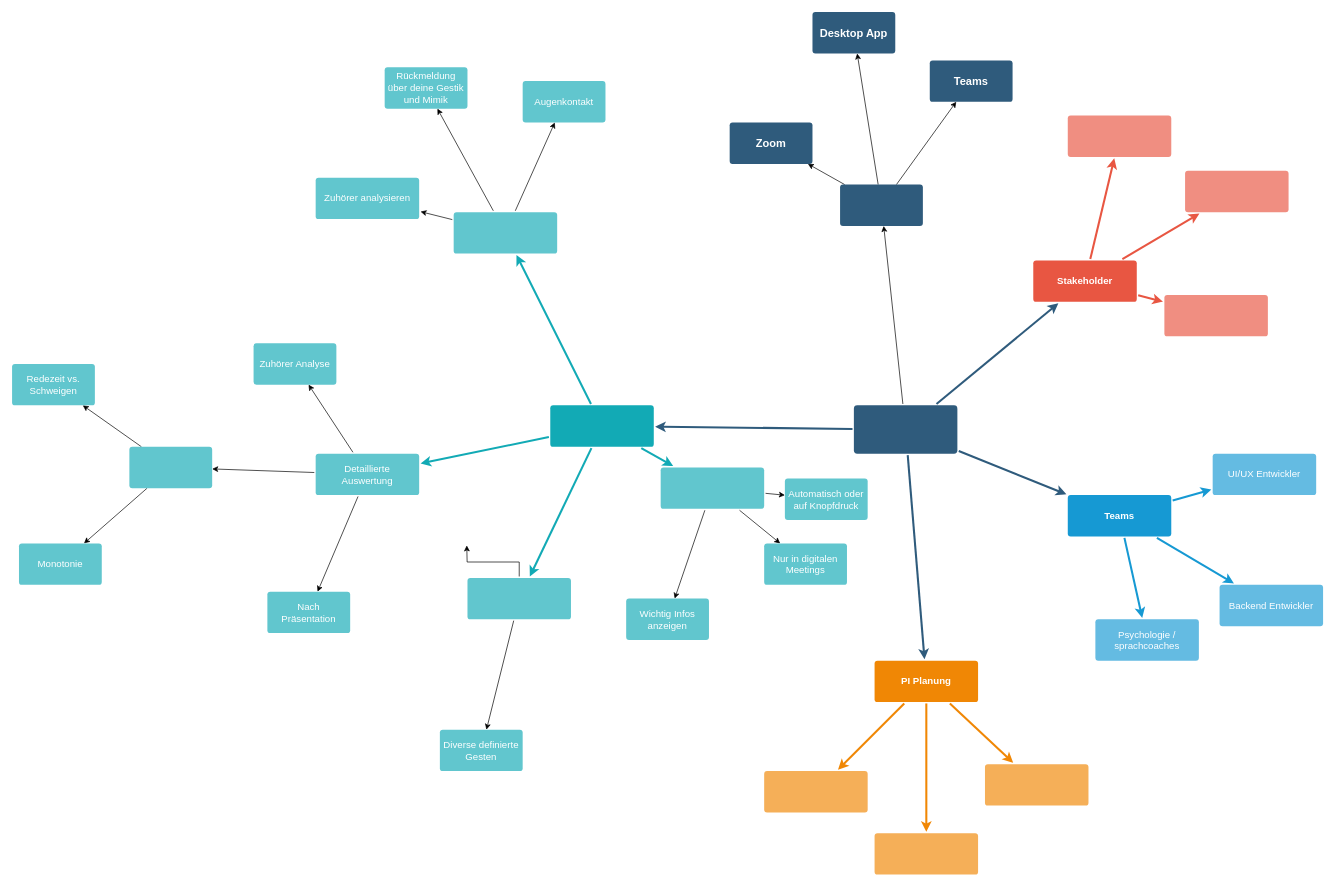
Some shapes in this 1334 by 886 pixel diagram are drawn without their labels. The shapes that lost their labels are listed below. From the top down, each one's centre as x and y in pixels, then its label:
At (881,205): "Schnittstellen".
At (505,232): "Live-Stimmungsanalyse".
At (601,425): "Funktionen".
At (905,429): "Smart Engage".
At (170,467): "Dashboard mit Infos".
At (712,488): "Automatische Anpassung".
At (519,598): "Blick & Gestensteuerung".
